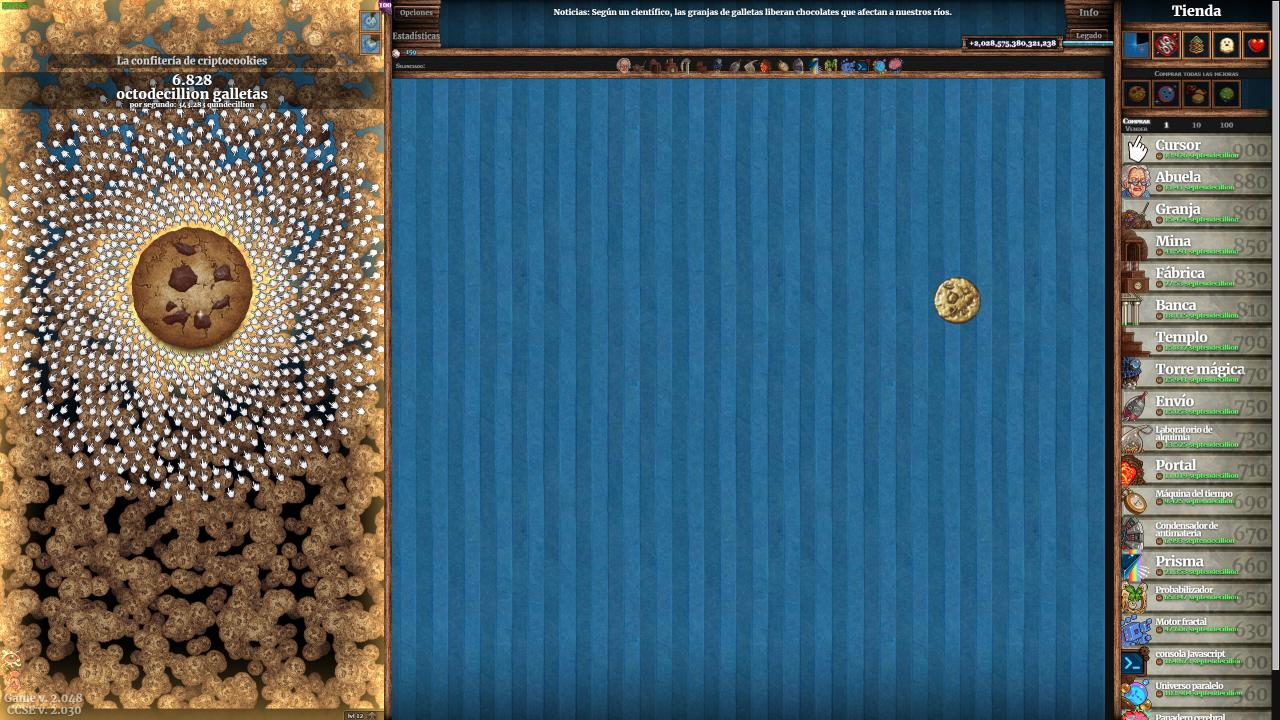GoldenCookie: (933, 275, 984, 326)
